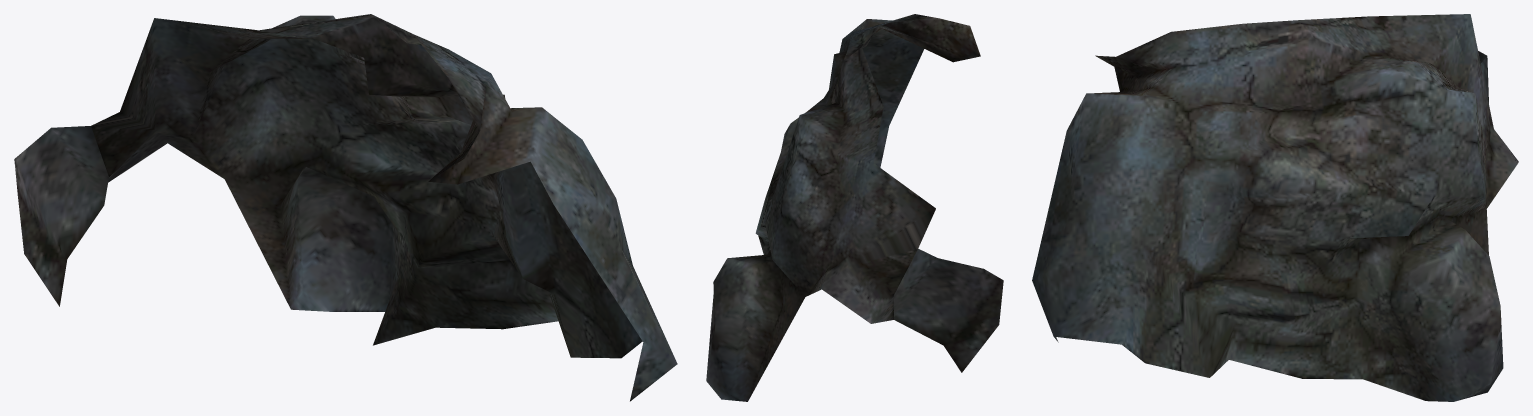
The model's file is S_Rock_Yellow034_H27.FBX.
3 views of the same model, side by side, from view 1: azimuth 30°, elevation 25°; view 2: azimuth 150°, elevation 25°; view 3: azimuth 270°, elevation 25° (orthographic). The views are drawn at different scales.
Parts seen in each view (by area): view 1: S_Rock_Yellow034_H27; view 2: S_Rock_Yellow034_H27; view 3: S_Rock_Yellow034_H27.
Part boxes in pixels (<box>): S_Rock_Yellow034_H27: <box>14,14,677,401</box>; S_Rock_Yellow034_H27: <box>706,14,1003,401</box>; S_Rock_Yellow034_H27: <box>1032,14,1518,401</box>.
Size of the model in its own units: 1341 by 1475 by 1168.
Materials: 1 (1 with a texture image).
